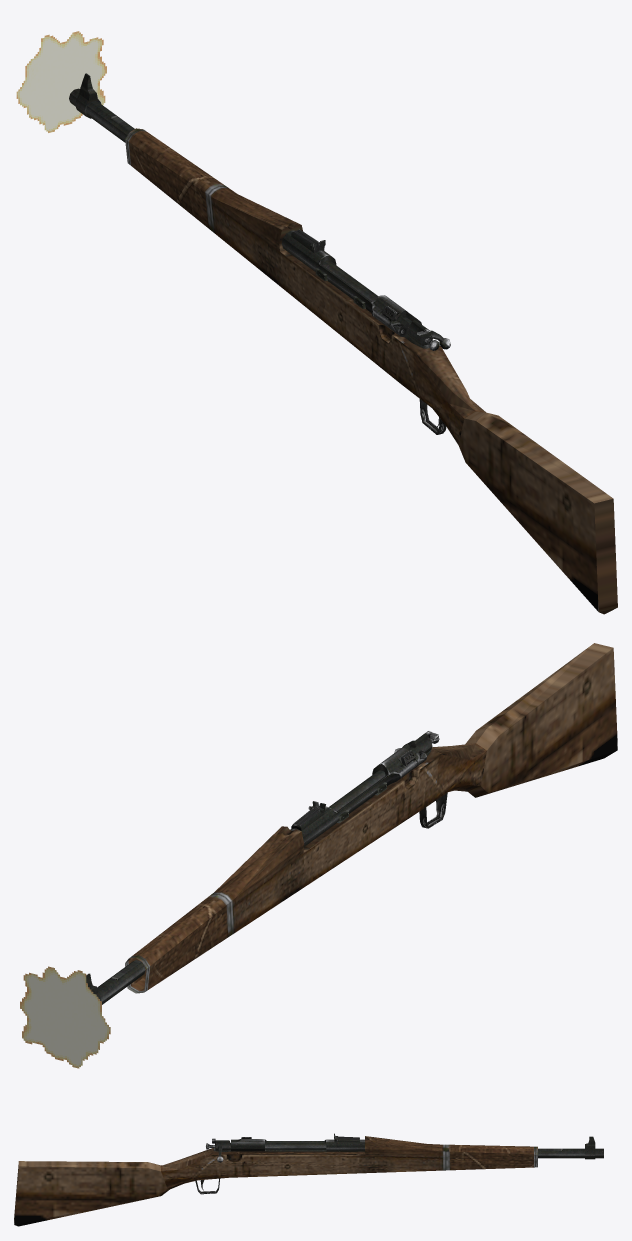
File: Wpn_SpringOpt.fbx
3 renders of one model, top to bottom at view 1: azimuth 30°, elevation 25°; view 2: azimuth 150°, elevation 25°; view 3: azimuth 270°, elevation 25°, orthographic. The views are drawn at different scales.
Parts seen in each view (by area): view 1: fpv_weapon, flash, gunlock; view 2: fpv_weapon, flash, gunlock; view 3: fpv_weapon, gunlock.
Boxes of the visible parts, x1,y1,x2,y2 form: fpv_weapon: (69,73,617,614); flash: (16,31,106,132); gunlock: (323,260,450,349); fpv_weapon: (86,643,617,1004); flash: (20,966,110,1068); gunlock: (329,731,438,811); fpv_weapon: (14,1133,603,1226); gunlock: (212,1138,326,1162).
Bounding box in the file's own units: 10.83 × 20.05 × 103.
